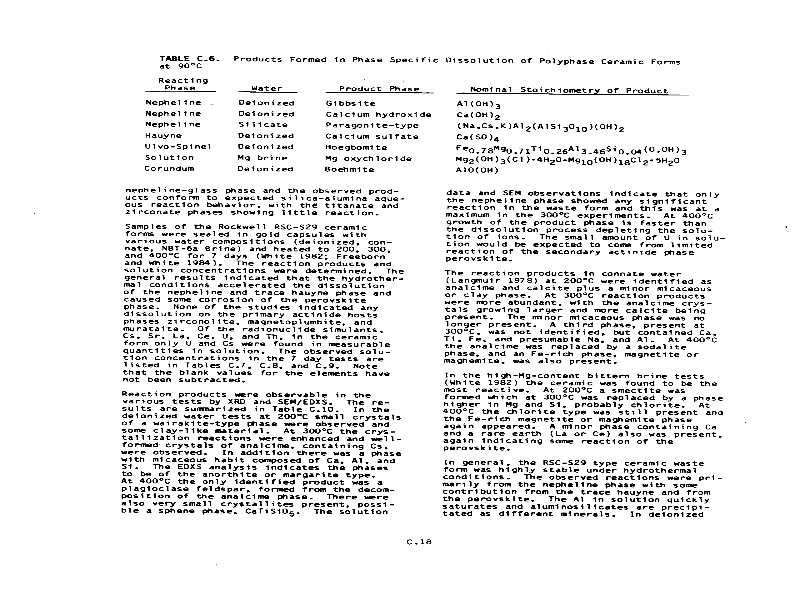table: (127, 48, 702, 180)
